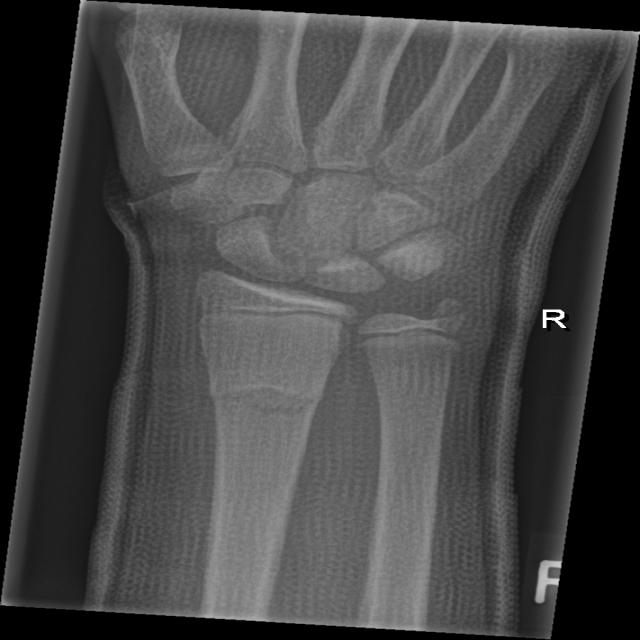radius fracture: (181, 329, 348, 528)
ulna fracture: (364, 292, 482, 476)
